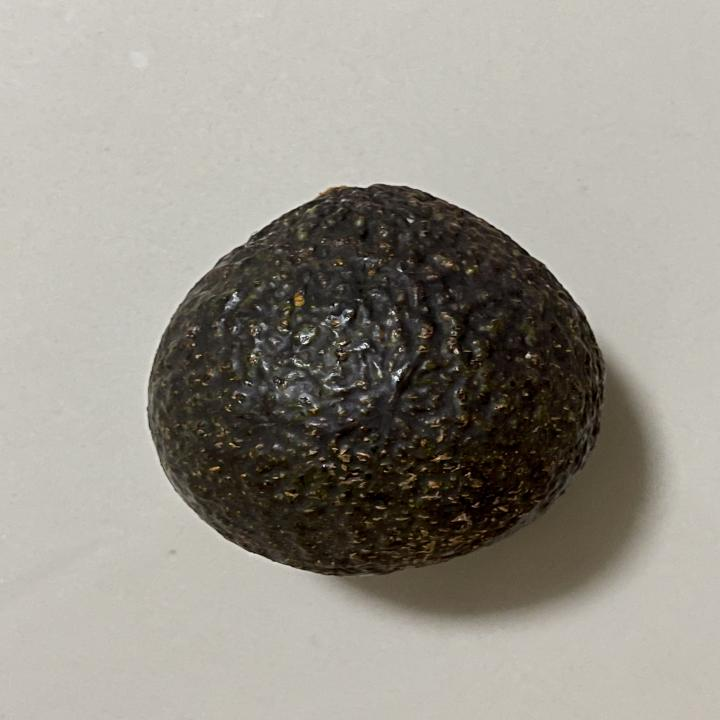Level2: (137, 180, 613, 582)
